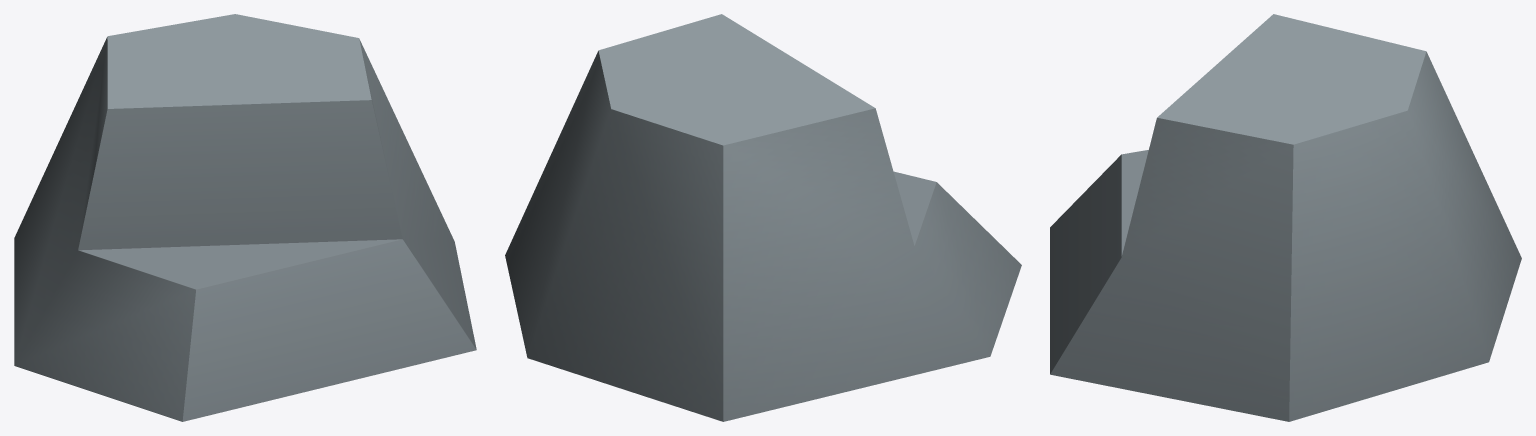
File: hex_rock_single_b.glb
3 renders of one model, left to right at view 1: azimuth 30°, elevation 25°; view 2: azimuth 150°, elevation 25°; view 3: azimuth 270°, elevation 25°, orthographic. The views are drawn at different scales.
Visible parts, largest first — view 1: hex_rock_single_b; view 2: hex_rock_single_b; view 3: hex_rock_single_b.
Boxes of the visible parts, <box> form: hex_rock_single_b: <box>14,14,476,421</box>; hex_rock_single_b: <box>505,14,1021,421</box>; hex_rock_single_b: <box>1050,14,1521,421</box>.
Bounding box in the file's own units: 0.1433 × 0.0673 × 0.1249.
1 material, 1 textured.
